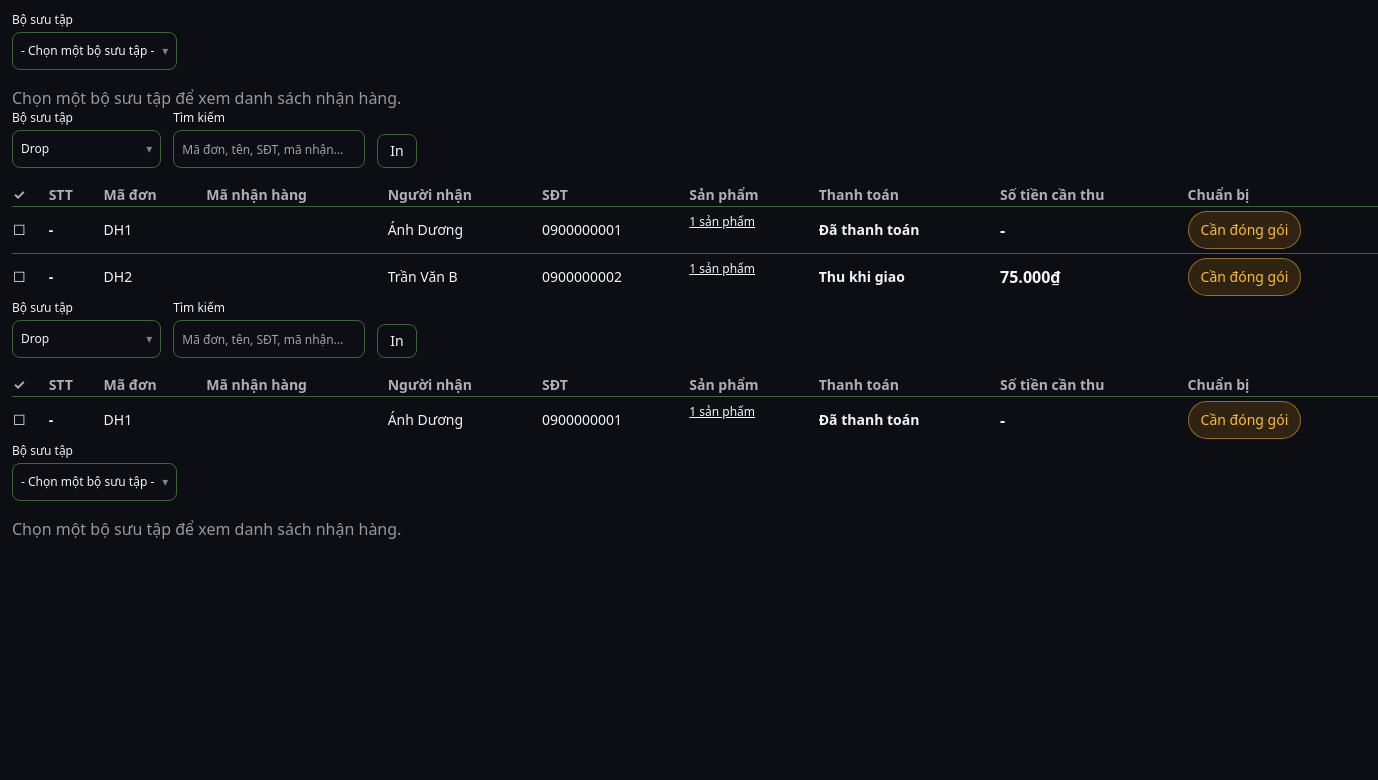
Test: ShippingRoster › shows a prepaid row and a collect-at-handover row unmistakably differently
The width and height of the screenshot is (1378, 780).
Click the button with aria-label "- Chọn một bộ sưu tập -": point(95, 482) [12, 463, 177, 501]
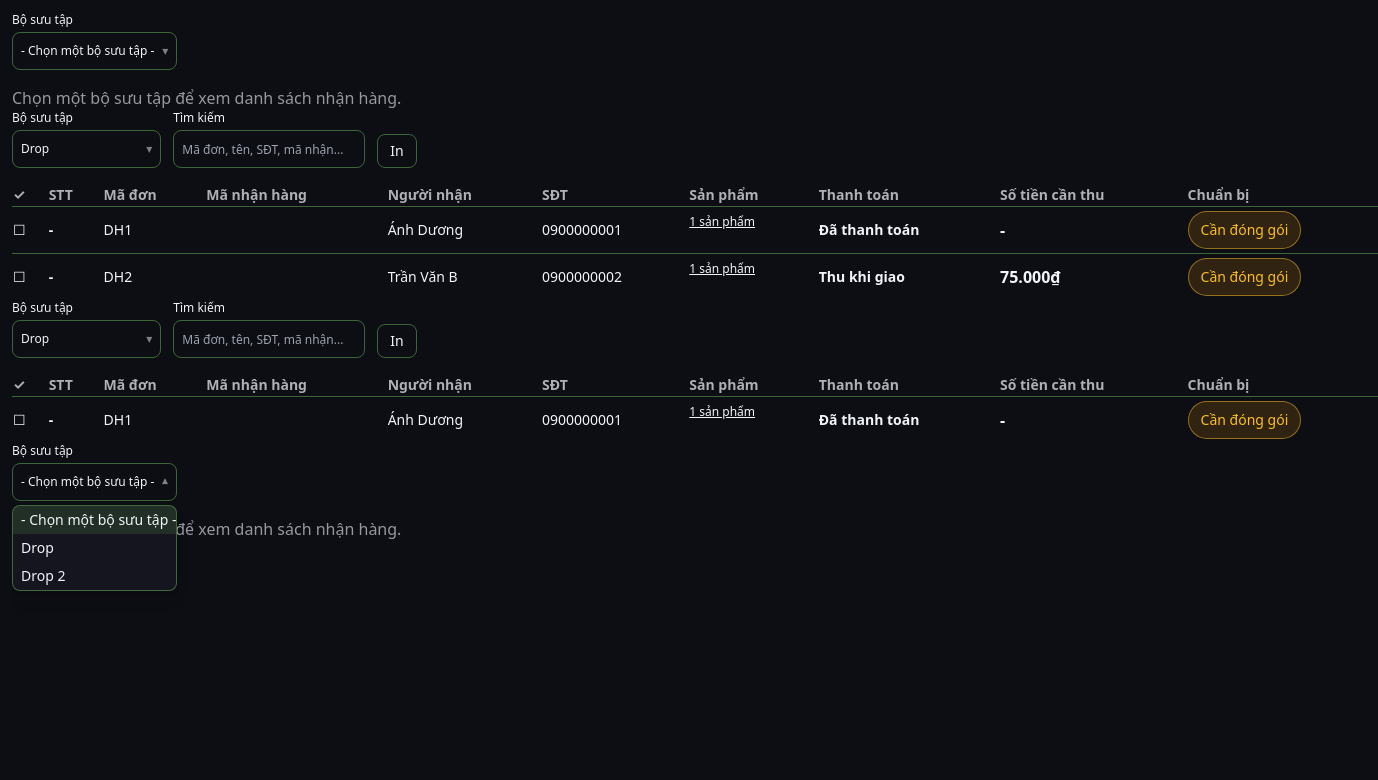
Click the button "Drop": point(95, 548) [13, 534, 176, 562]
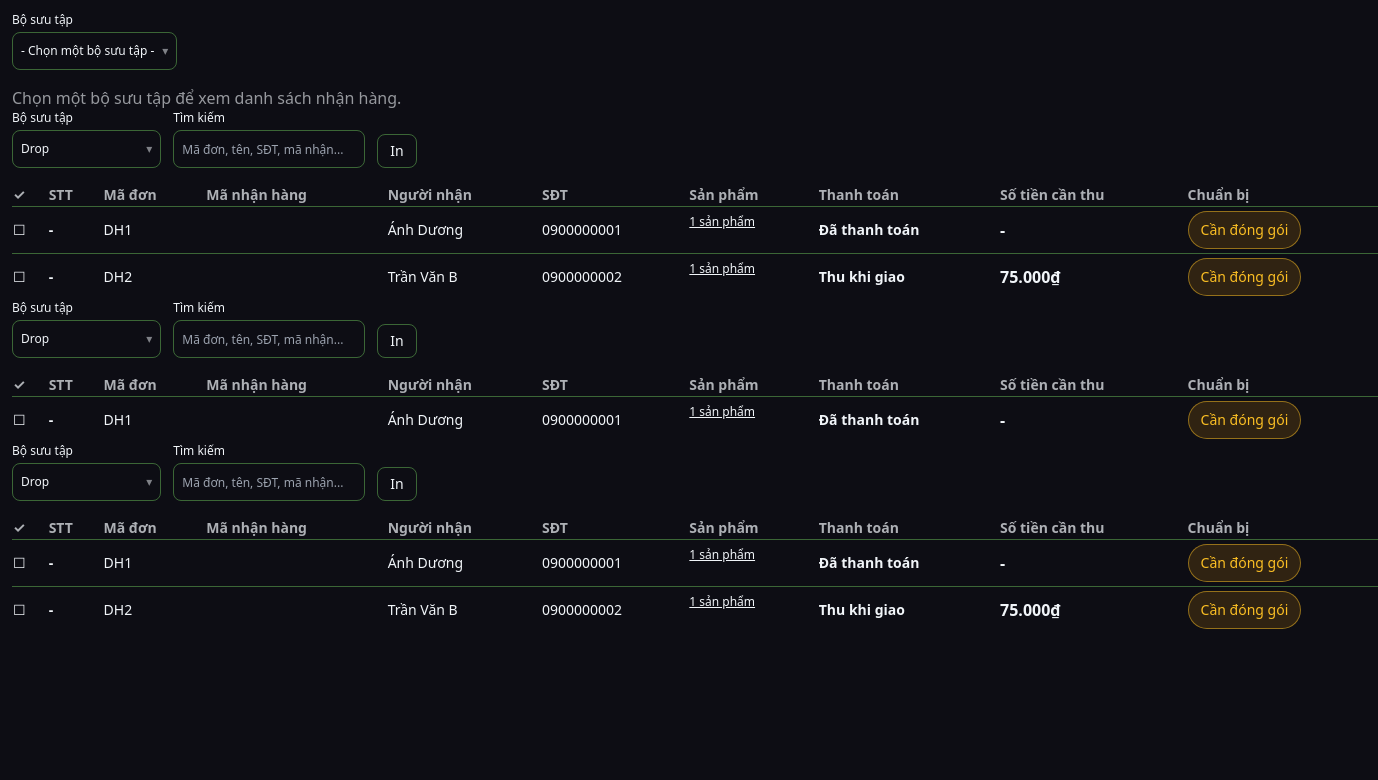
Now the row with test id "order-row-" shows "Đã thanh toán", box [819, 553, 919, 572]
Now the row with test id "order-row-" shows "Thu khi giao", box [819, 600, 905, 619]
Now the row with test id "order-row-" shows "75.000₫", box [1000, 599, 1061, 621]
